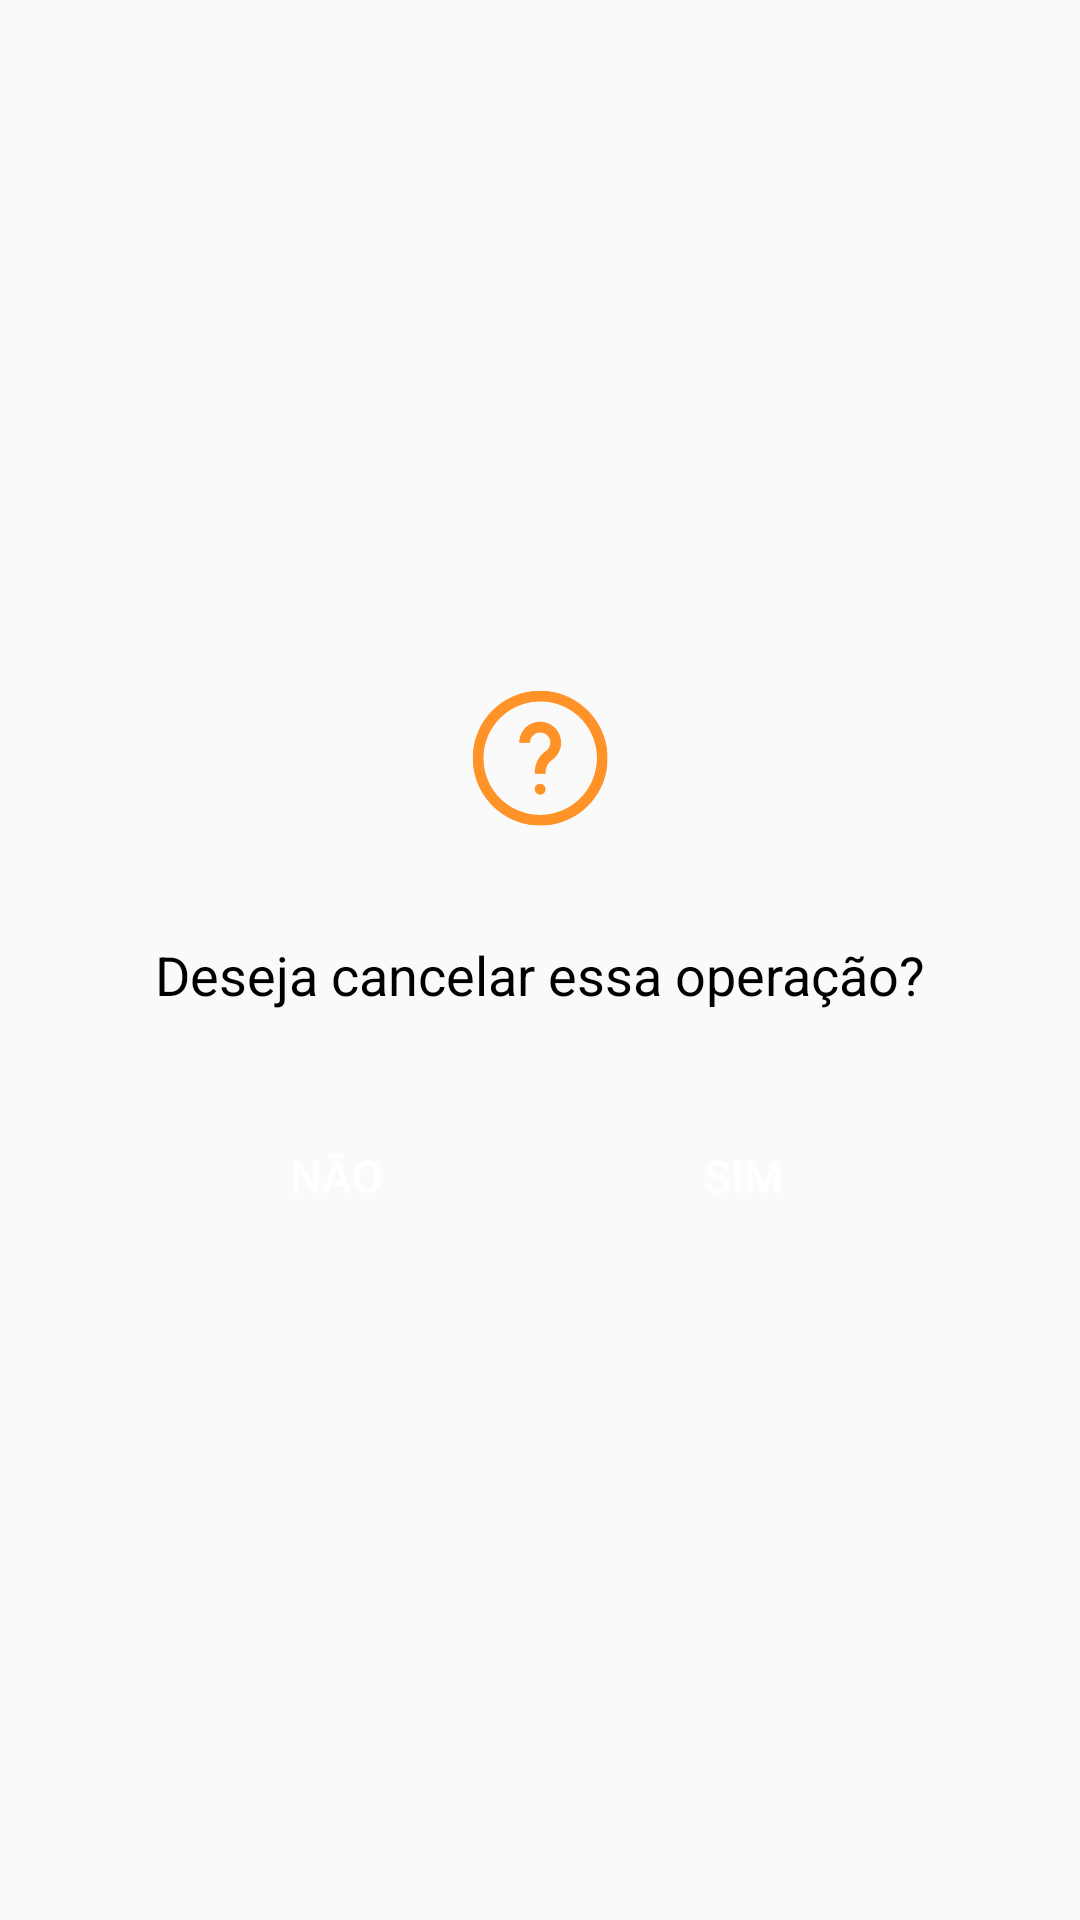

Named icons in this screenshot (1080×1920) and their centers, (x=x, y=y):
Tem certeza que deseja sair?: (x=540, y=758)
